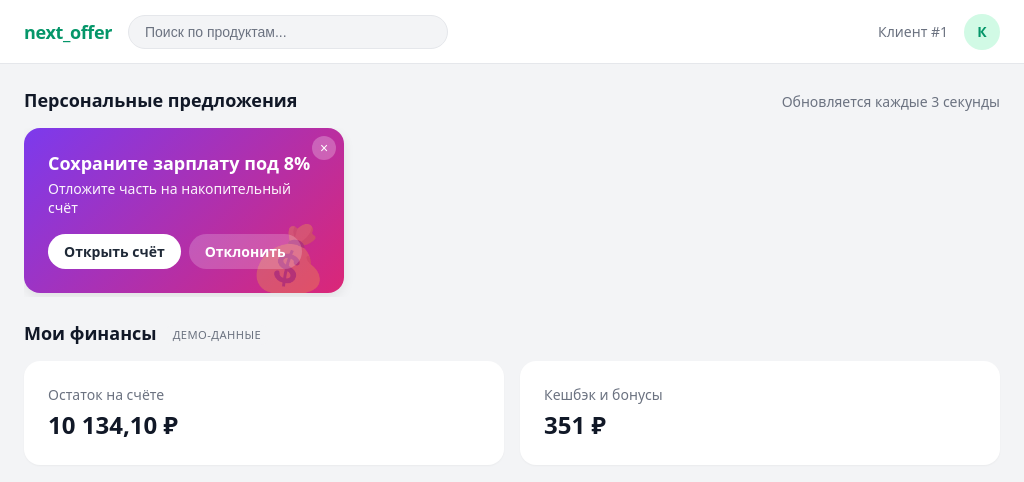
Test: offer feedback › sends "dismissed" and removes the offer from the carousel
Check: the heading "Сохраните зарплату под 8%" is shown, box [48, 152, 320, 174]
Click the button named "Закрыть предложение" at {"x": 324, "y": 148}, box [312, 136, 336, 160]
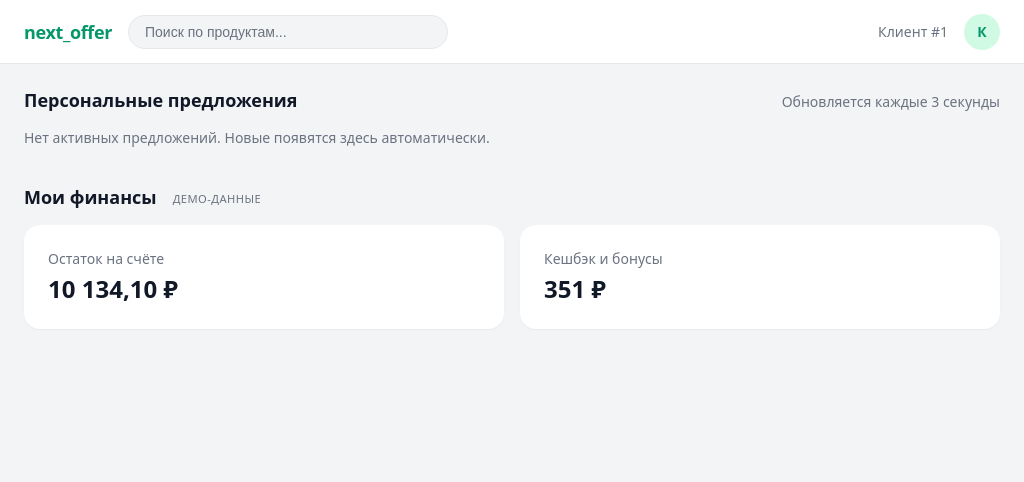
Check: the heading "Сохраните зарплату под 8%" is gone
